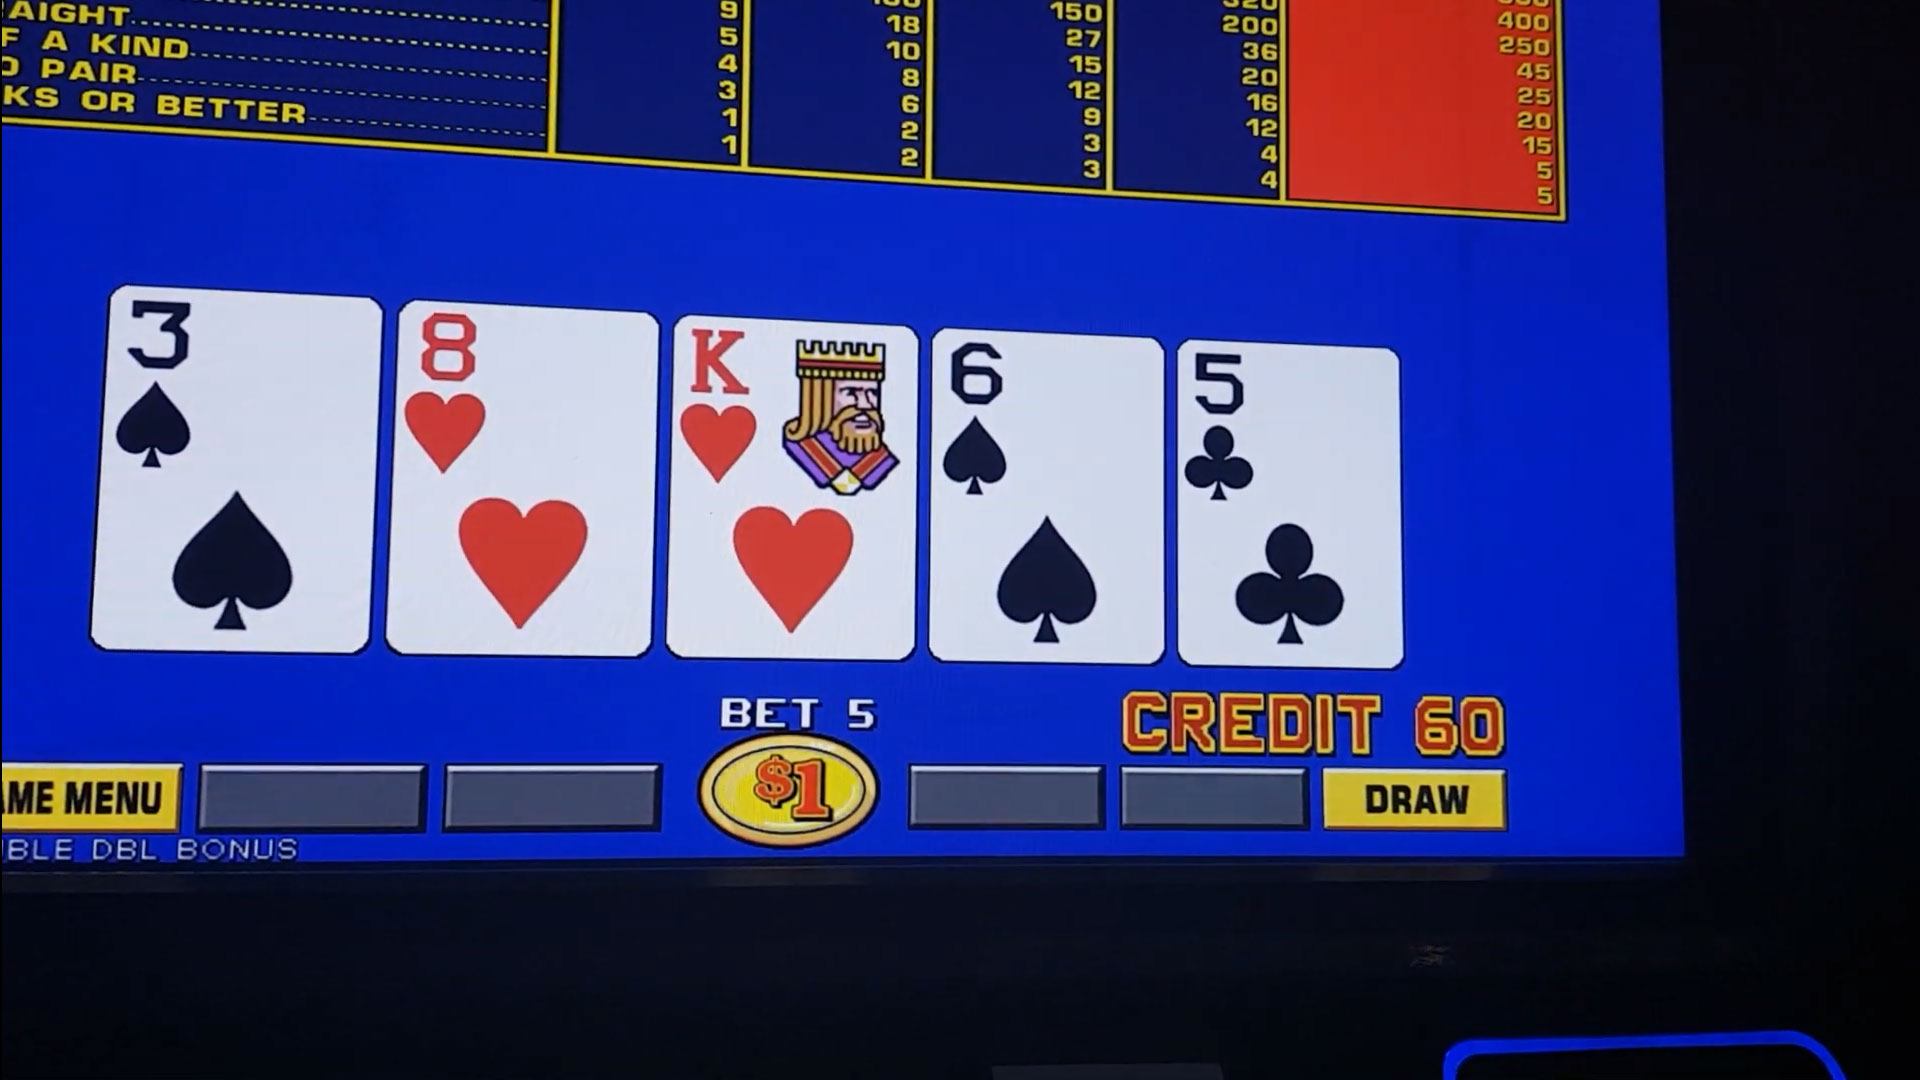C5: (1182, 356, 1393, 516)
H8: (405, 319, 651, 492)
HK: (680, 332, 911, 497)
S3: (113, 302, 376, 479)
S6: (938, 345, 1160, 510)
